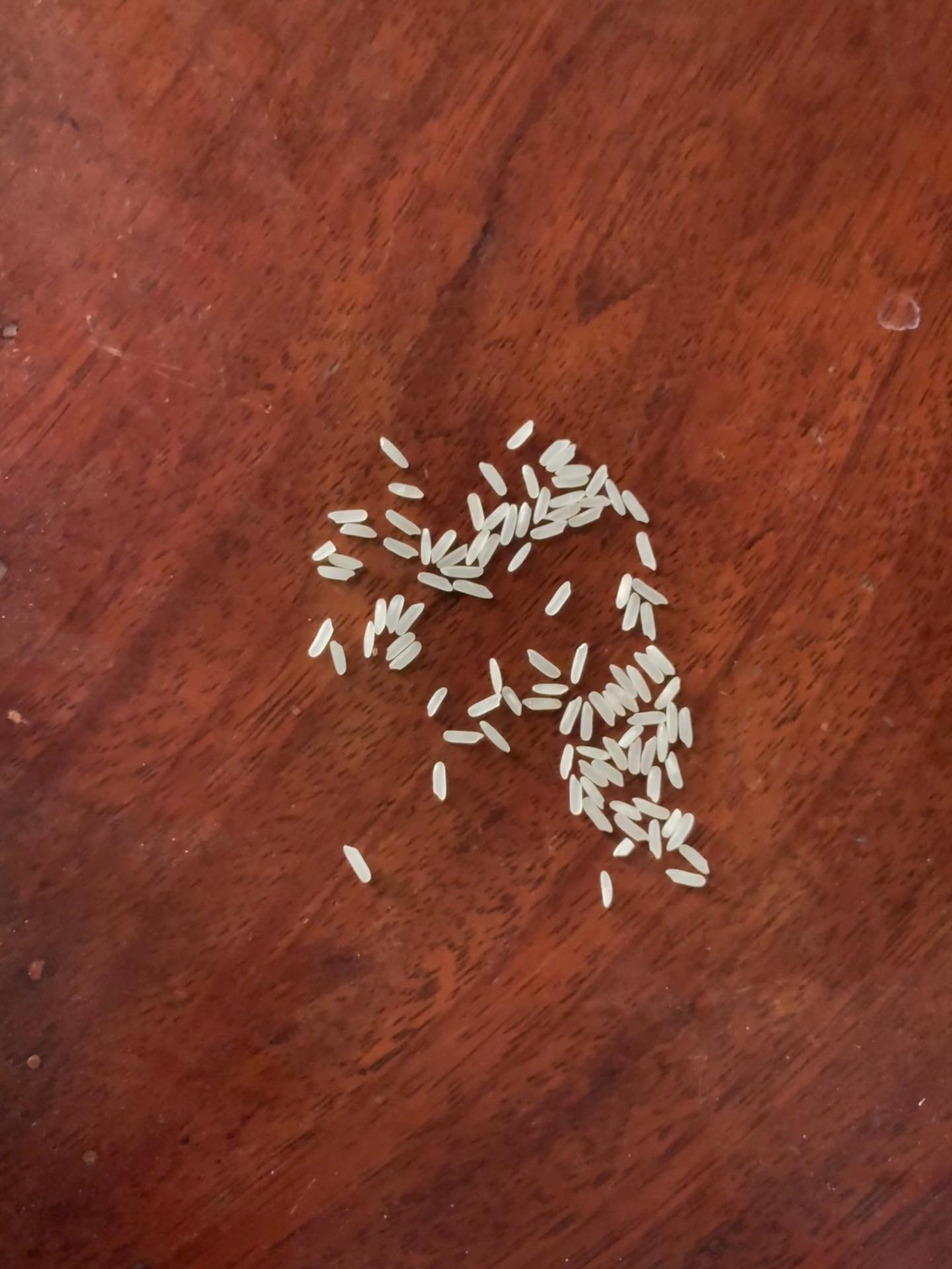Rice-th-y-nh: (343, 844, 373, 883), (582, 797, 614, 833), (479, 719, 511, 753), (666, 815, 695, 852), (394, 602, 425, 636), (526, 649, 561, 679), (631, 578, 668, 606), (634, 651, 665, 684), (388, 640, 422, 670), (609, 664, 638, 699), (544, 581, 573, 616), (614, 813, 649, 842), (308, 619, 334, 658), (678, 844, 710, 875), (606, 683, 639, 713), (479, 462, 508, 496), (558, 696, 583, 735), (619, 593, 644, 632), (384, 631, 416, 661), (591, 759, 624, 788), (627, 665, 652, 703), (430, 529, 457, 564), (589, 691, 616, 726), (385, 510, 421, 536), (379, 438, 409, 469), (545, 444, 577, 473), (621, 490, 649, 523), (497, 504, 519, 546), (654, 677, 681, 711), (464, 530, 490, 565), (646, 644, 675, 675), (383, 594, 406, 633), (666, 866, 706, 888), (603, 736, 628, 771), (634, 532, 657, 570), (481, 502, 511, 531), (633, 797, 669, 821), (452, 578, 493, 599), (569, 643, 590, 684), (604, 479, 627, 516), (506, 420, 534, 450), (578, 760, 608, 788), (638, 736, 659, 776), (467, 693, 502, 717), (662, 701, 681, 745), (538, 439, 570, 465), (580, 776, 605, 809), (638, 601, 659, 640), (436, 545, 468, 570), (585, 464, 609, 497), (417, 571, 453, 593), (382, 537, 418, 559), (477, 533, 500, 567), (552, 463, 591, 483), (430, 762, 450, 801), (566, 775, 585, 816), (530, 519, 567, 540), (531, 487, 552, 524), (609, 799, 642, 822), (441, 563, 483, 581), (507, 543, 533, 572), (466, 493, 486, 530), (486, 658, 506, 695), (416, 528, 436, 565), (569, 507, 604, 528), (614, 574, 635, 609), (577, 703, 596, 741), (664, 752, 684, 788), (545, 503, 581, 523), (369, 599, 389, 635), (677, 707, 695, 747), (625, 738, 644, 775), (387, 481, 424, 500), (425, 687, 448, 717), (501, 686, 524, 716), (550, 490, 586, 509), (328, 508, 368, 525), (340, 521, 377, 539), (329, 551, 364, 570), (647, 820, 664, 859), (523, 695, 562, 712), (618, 724, 644, 749), (645, 766, 663, 802), (329, 641, 348, 675), (661, 809, 683, 838), (515, 503, 533, 538), (558, 744, 576, 779), (521, 465, 540, 498), (444, 729, 483, 745), (628, 710, 666, 726), (602, 692, 626, 717), (318, 565, 355, 581), (361, 621, 377, 658), (552, 474, 589, 490), (576, 744, 610, 761), (599, 871, 615, 907), (655, 724, 670, 761), (532, 682, 568, 697), (578, 494, 610, 510), (312, 541, 336, 562), (612, 838, 634, 857)
